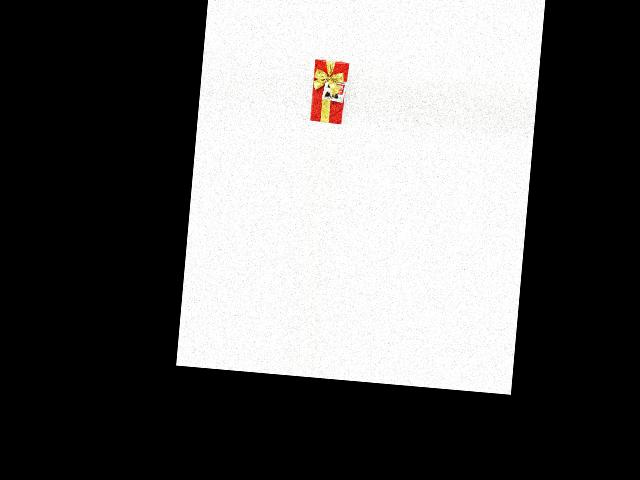chocolate: (307, 56, 349, 123)
